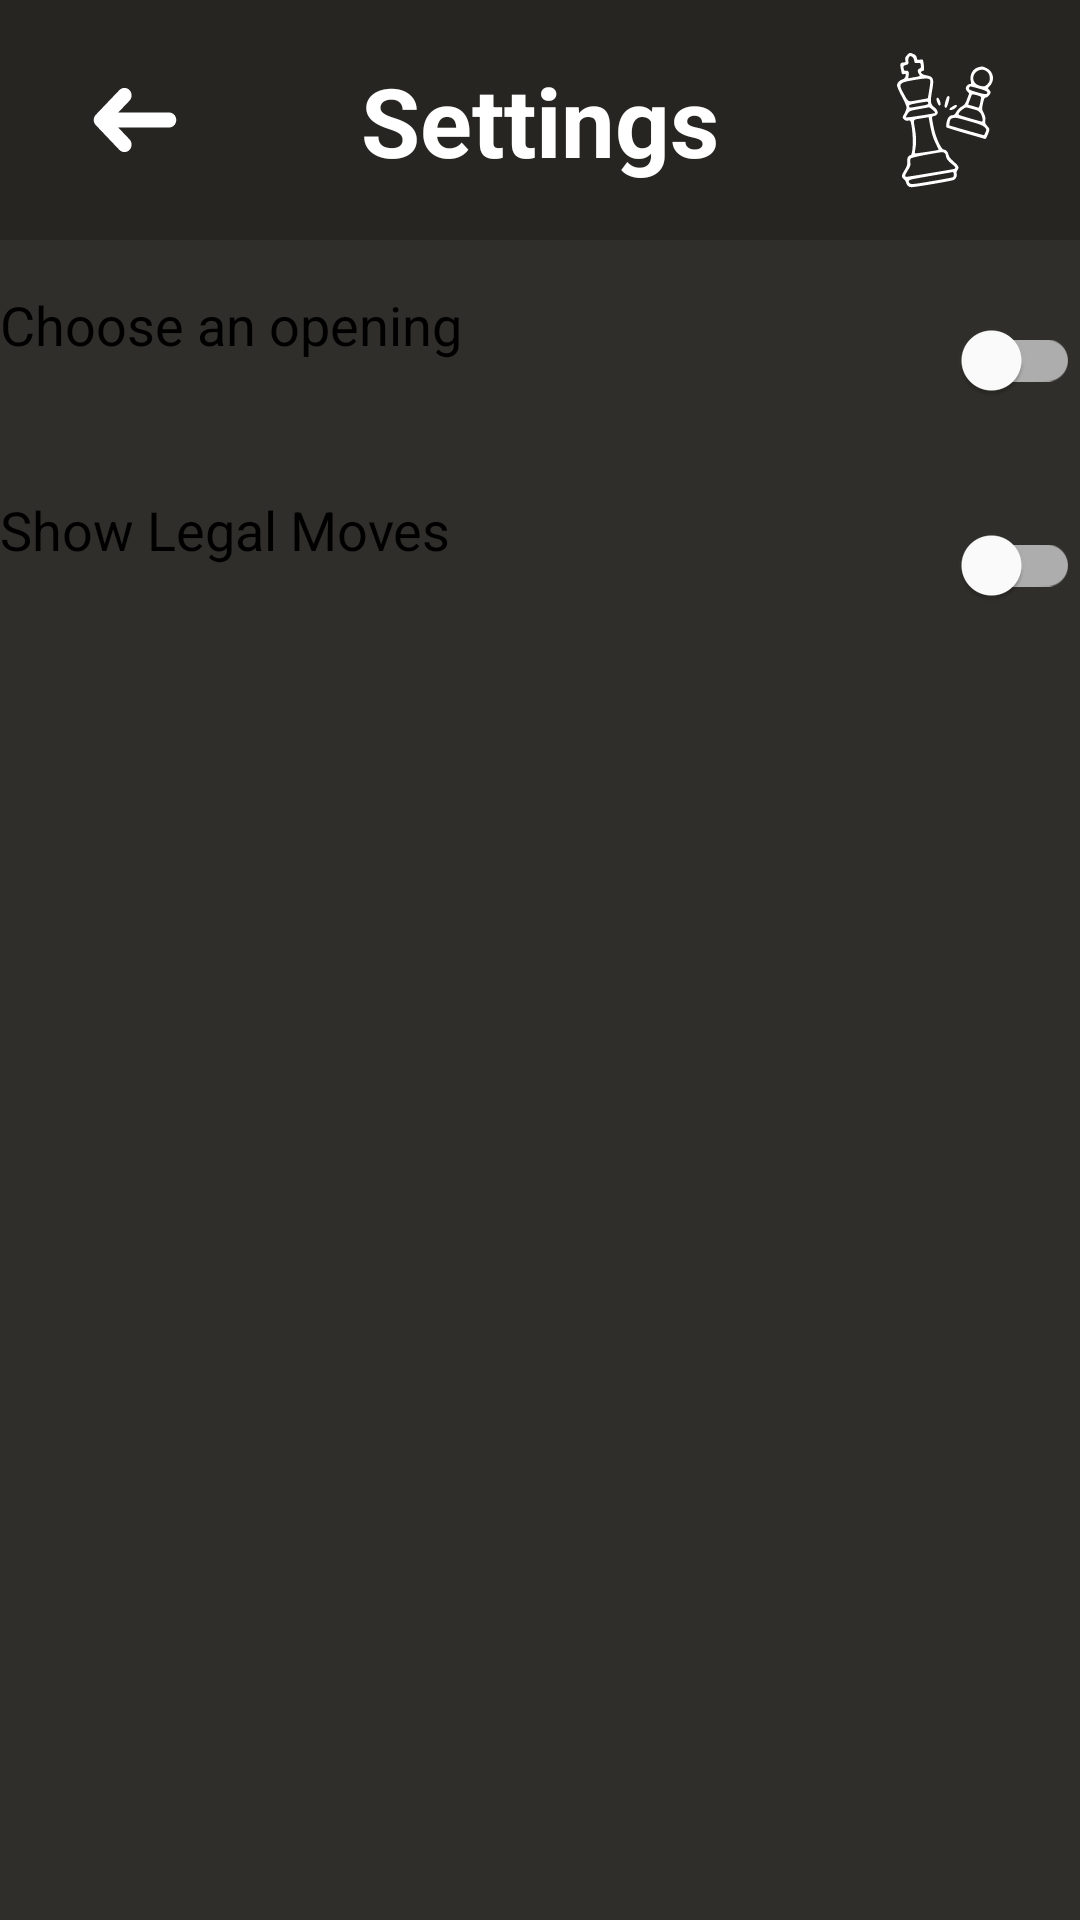

Point at icon controls on the screen. Image size 1080 × 1920, points as point (x, y).
Back Button: point (135, 120)
